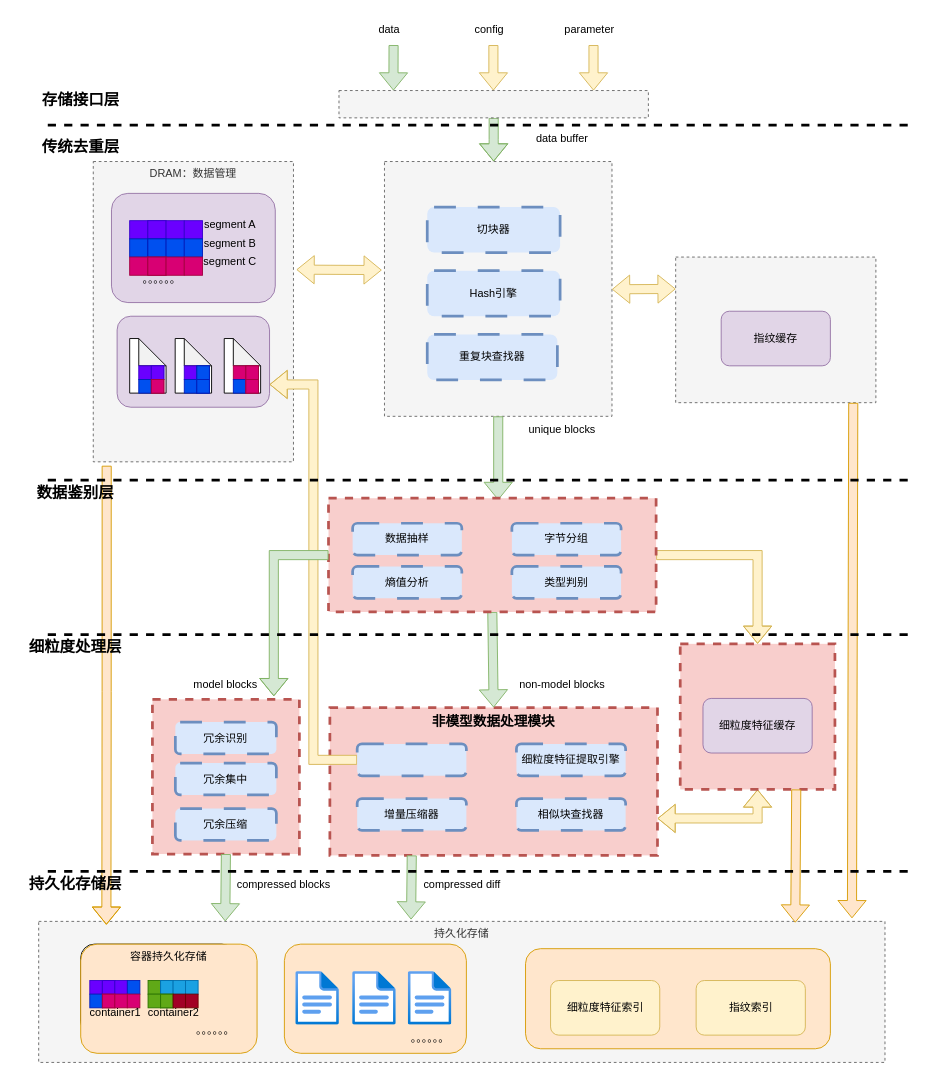
Image size: 930x1078. Some labels were removed from this diagram. Here are the shapes that lost their labels. From the top down, the box of each, then its label:
(338, 90, 648, 118): 系统初始化+调用接口
(111, 192, 275, 303): 段管理器
(384, 161, 612, 416): 传统块级重复数据删除模块
(675, 256, 876, 403): DRAM：指纹缓存
(116, 315, 270, 407): 文件结构缓存
(327, 496, 657, 613): 数据类型鉴别模块
(678, 642, 836, 790): DRAM：细粒度特征缓存
(151, 698, 300, 855): 模型数据处理模块
(355, 742, 467, 777): 冗余去除器
(283, 943, 466, 1053): 文件结构存储
(525, 948, 830, 1049): KV存储
